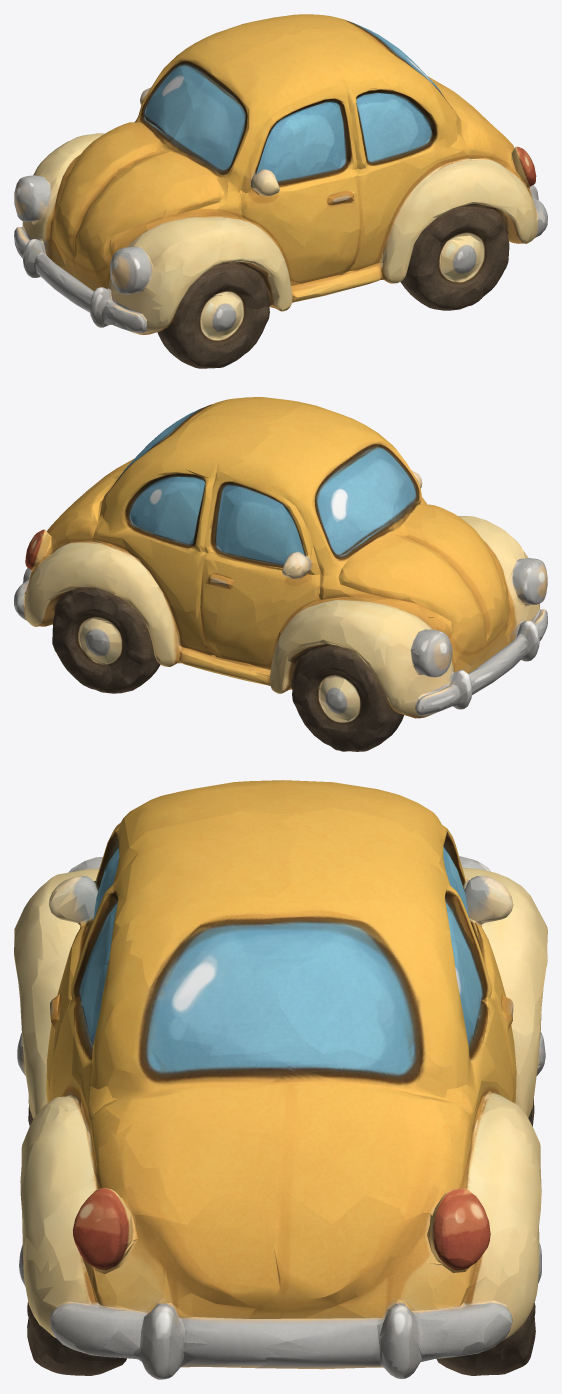
Rendered from model_urls_glb.glb.
3 renders of one model, top to bottom at view 1: azimuth 30°, elevation 25°; view 2: azimuth 150°, elevation 25°; view 3: azimuth 270°, elevation 25°, orthographic. The views are drawn at different scales.
Size of the model in its own units: 1.9 by 1.03 by 1.09.
Materials: 1 (1 with a texture image).
